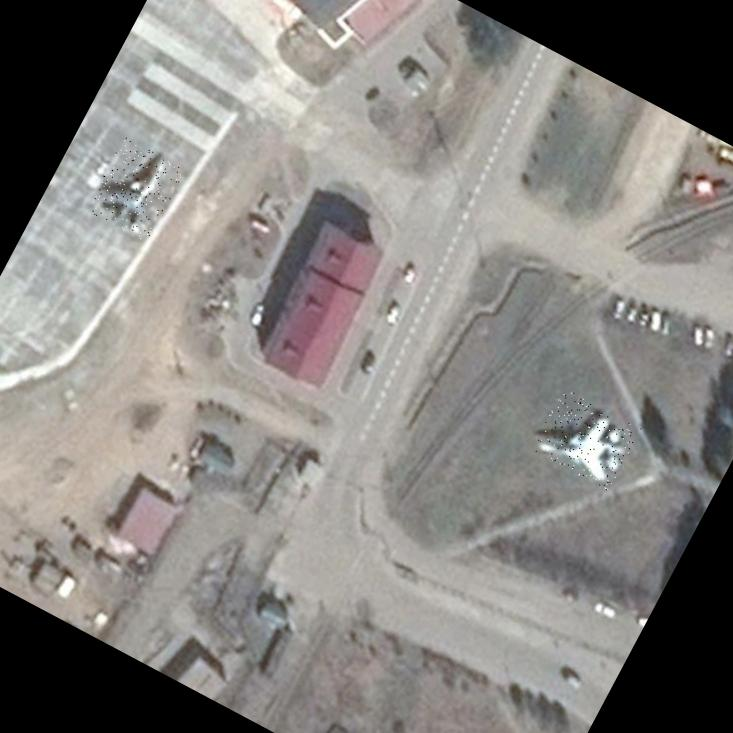A19: (530, 387, 642, 491), (84, 136, 186, 243)
